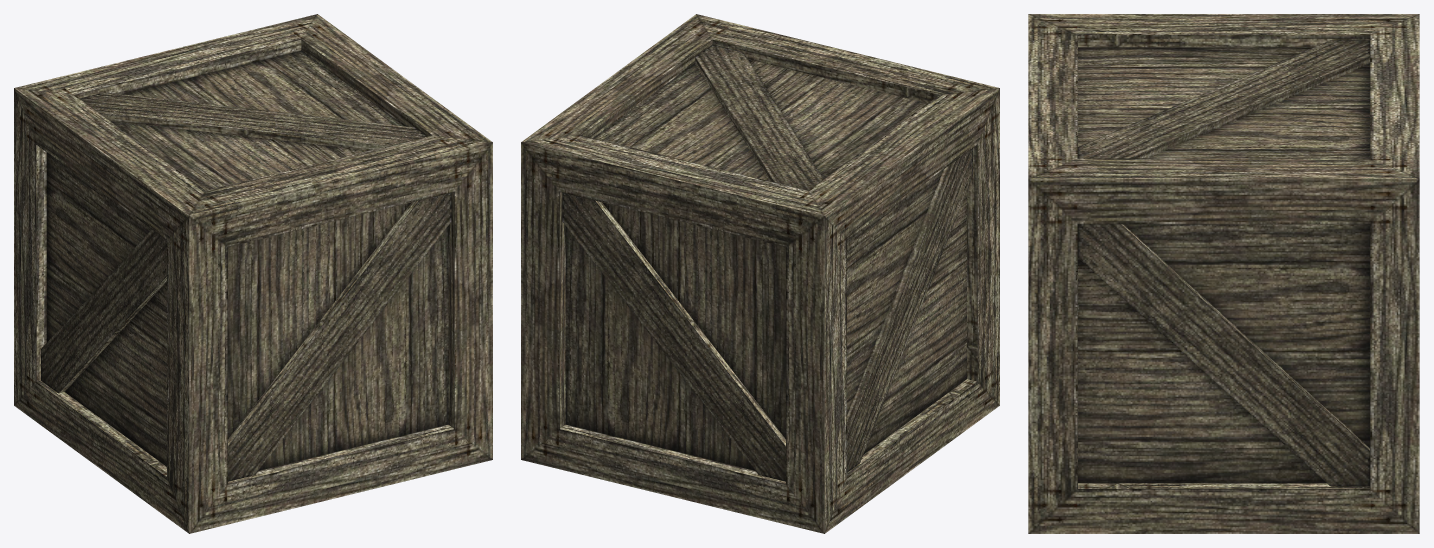
3 renders of one model, left to right at view 1: azimuth 30°, elevation 25°; view 2: azimuth 150°, elevation 25°; view 3: azimuth 270°, elevation 25°, orthographic. The views are drawn at different scales.
Visible parts, largest first — view 1: Mesh3; view 2: Mesh3; view 3: Mesh3.
Part boxes in pixels (x1,y1,x2,y2): Mesh3: [14, 14, 492, 533]; Mesh3: [521, 14, 999, 533]; Mesh3: [1028, 14, 1419, 533].
Size of the model in its own units: 2 by 2 by 2.
1 material, 1 textured.
